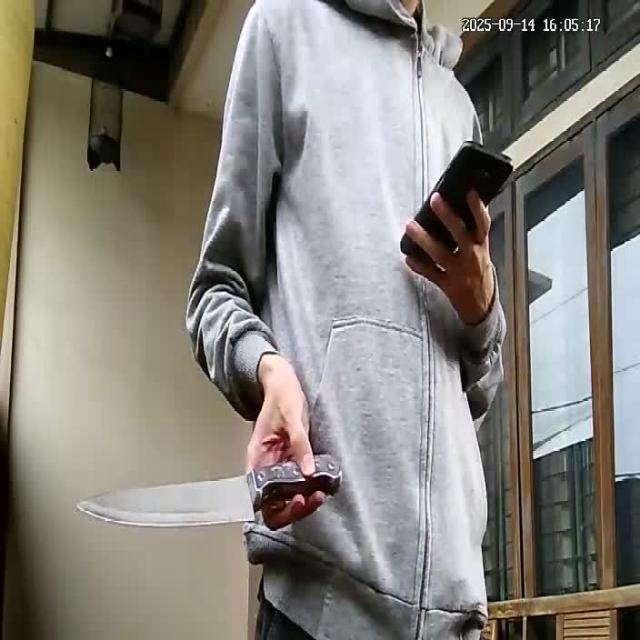senjata_tajam: (75, 468, 265, 527)
